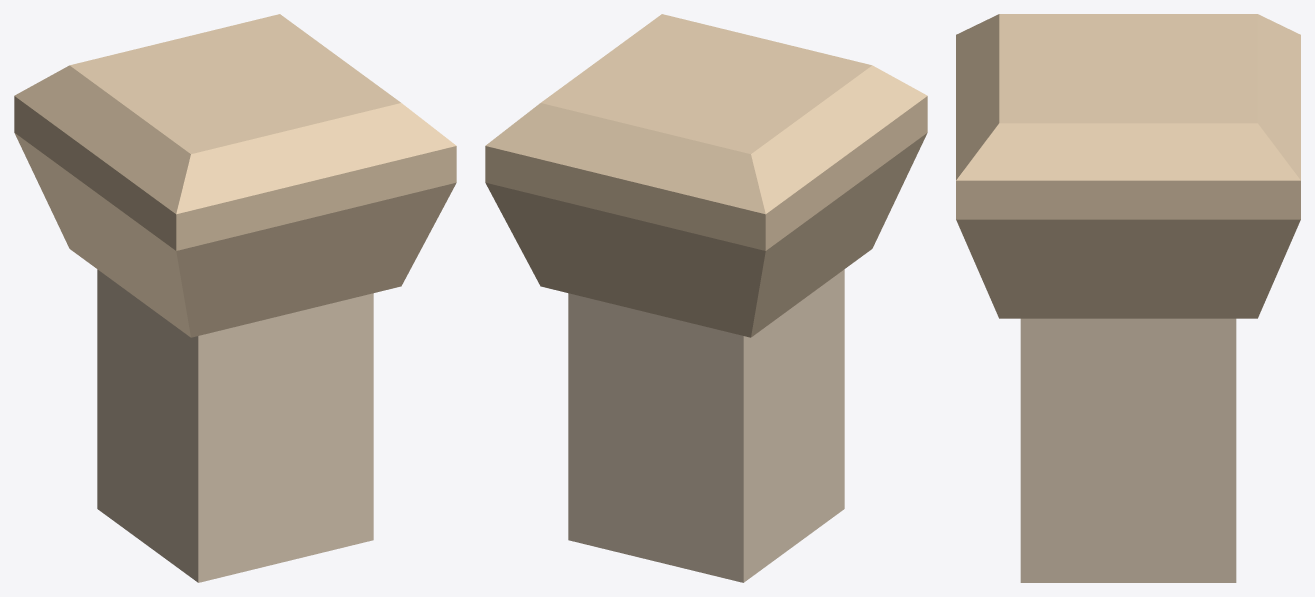
File: Stairs_Newel_Top.glb
The picture shows the model from 3 angles, left to right: view 1: azimuth 30°, elevation 25°; view 2: azimuth 150°, elevation 25°; view 3: azimuth 270°, elevation 25°; orthographic projection. The views are drawn at different scales.
Parts seen in each view (by area): view 1: Stairs_Newel_Top; view 2: Stairs_Newel_Top; view 3: Stairs_Newel_Top.
Boxes of the visible parts, x1=… form: Stairs_Newel_Top: x1=14, y1=14, x2=456, y2=582; Stairs_Newel_Top: x1=485, y1=14, x2=927, y2=582; Stairs_Newel_Top: x1=956, y1=14, x2=1300, y2=582.
Bounding box in the file's own units: 0.18 × 0.27 × 0.18.
